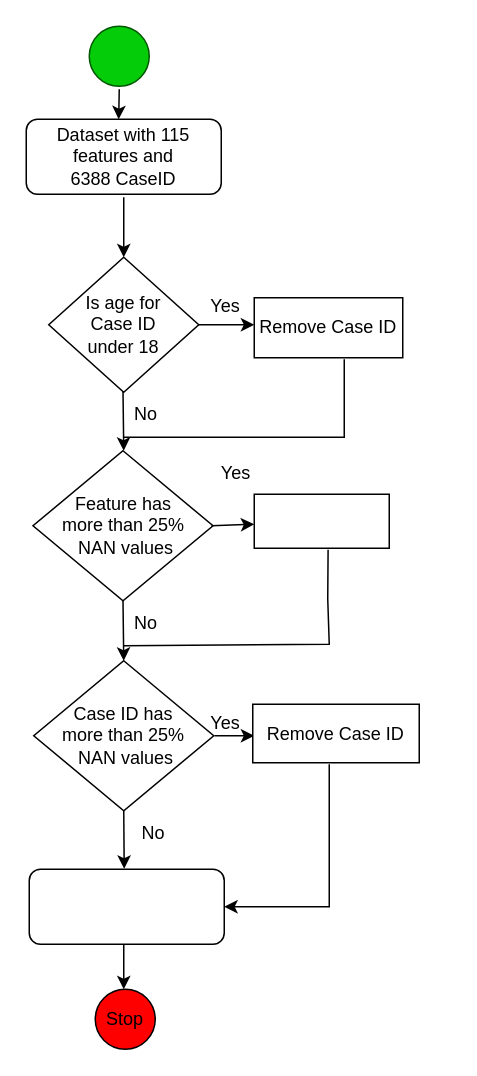
Image size: 477x1076. Some labels were removed from this diagram. Here are the shapes that lost their labels. From the top down, the centre of each, then its label:
At (x=118, y=55): "Start".
At (x=321, y=520): "Remove feature".
At (x=126, y=906): "Dataset with 50 features and 6253 CaseIDs".
